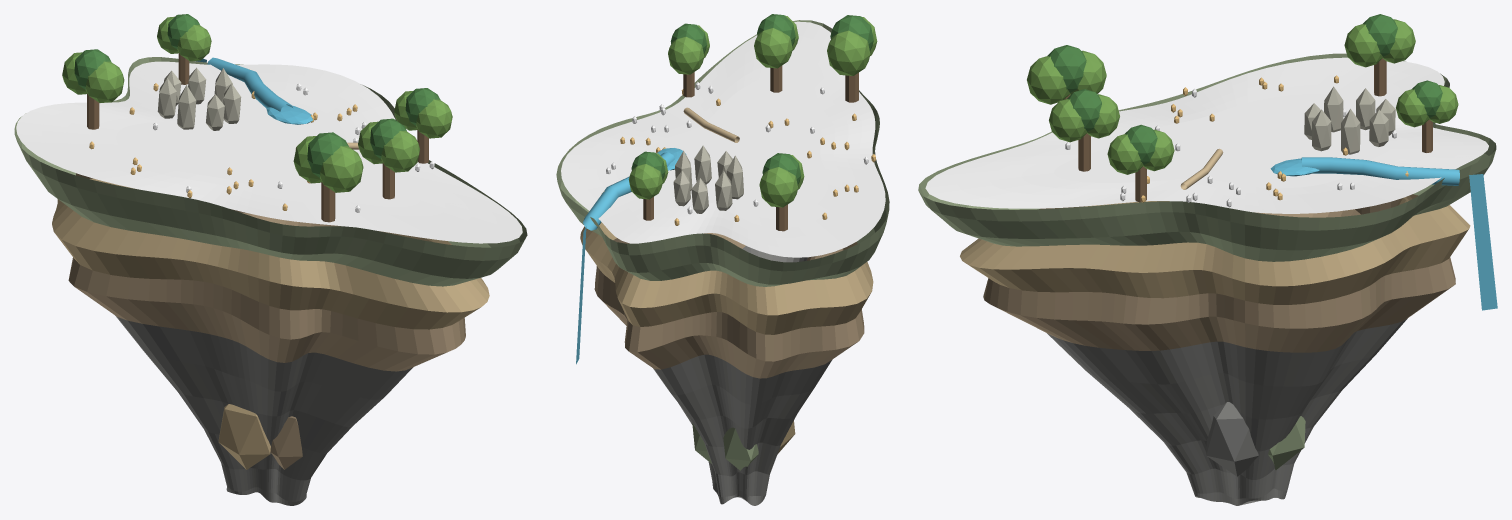
The model's file is FI-005-Amberfall-Meadow.glb.
The picture shows the model from 3 angles, left to right: view 1: azimuth 30°, elevation 25°; view 2: azimuth 150°, elevation 25°; view 3: azimuth 270°, elevation 25°; orthographic projection. The views are drawn at different scales.
Visible parts, largest first — view 1: FI-005_StratifiedFloatingCliff, FI-005_BuildableTop, FI-005_RootShoulder_01, OrchardTree_00_Canopy_00, MeadowCreek, OrchardTree_03_Canopy_00, OrchardTree_01_Canopy_00, FI-005_RootShoulder_02, OrchardTree_02_Canopy_00, OrchardTree_00_Canopy_01, OrchardTree_04_Canopy_00, OrchardTree_01_Canopy_01 (+8 smaller); view 2: FI-005_StratifiedFloatingCliff, FI-005_BuildableTop, OrchardTree_00_Canopy_02, OrchardTree_01_Canopy_02, OrchardTree_03_Canopy_02, OrchardTree_02_Canopy_02, MeadowCreek, OrchardTree_04_Canopy_02, FI-005_RootShoulder_00, OrchardTree_00_Canopy_01, OrchardTree_03_Canopy_01, OrchardTree_01_Canopy_01 (+10 smaller); view 3: FI-005_StratifiedFloatingCliff, FI-005_BuildableTop, FI-005_RootShoulder_03, MeadowCreek, WaterfallSheet, OrchardTree_00_Canopy_00, OrchardTree_00_Canopy_01, OrchardTree_01_Canopy_00, OrchardTree_03_Canopy_00, OrchardTree_02_Canopy_00, FI-005_RootShoulder_04, OrchardTree_03_Canopy_01 (+12 smaller).
Part boxes in pixels (left/top/right/bottom): FI-005_StratifiedFloatingCliff: left=14, top=57, right=527, bottom=505; FI-005_BuildableTop: left=16, top=61, right=522, bottom=243; FI-005_RootShoulder_01: left=218, top=404, right=270, bottom=469; OrchardTree_00_Canopy_00: left=319, top=146, right=363, bottom=192; MeadowCreek: left=207, top=57, right=292, bottom=111; OrchardTree_03_Canopy_00: left=85, top=61, right=124, bottom=102; OrchardTree_01_Canopy_00: left=381, top=131, right=419, bottom=172; FI-005_RootShoulder_02: left=270, top=416, right=302, bottom=469; OrchardTree_02_Canopy_00: left=416, top=99, right=452, bottom=138; OrchardTree_00_Canopy_01: left=307, top=132, right=348, bottom=177; OrchardTree_04_Canopy_00: left=177, top=25, right=211, bottom=61; OrchardTree_01_Canopy_01: left=370, top=118, right=406, bottom=158; FI-005_StratifiedFloatingCliff: left=556, top=20, right=889, bottom=505; FI-005_BuildableTop: left=561, top=21, right=885, bottom=257; OrchardTree_00_Canopy_02: left=827, top=30, right=870, bottom=75; OrchardTree_01_Canopy_02: left=754, top=28, right=792, bottom=68; OrchardTree_03_Canopy_02: left=759, top=167, right=798, bottom=207; OrchardTree_02_Canopy_02: left=668, top=36, right=704, bottom=74; MeadowCreek: left=583, top=152, right=674, bottom=230; OrchardTree_04_Canopy_02: left=628, top=164, right=662, bottom=199; FI-005_RootShoulder_00: left=723, top=427, right=758, bottom=470; OrchardTree_00_Canopy_01: left=830, top=15, right=873, bottom=50; OrchardTree_03_Canopy_01: left=762, top=153, right=801, bottom=184; OrchardTree_01_Canopy_01: left=757, top=14, right=795, bottom=45; FI-005_StratifiedFloatingCliff: left=918, top=53, right=1496, bottom=505; FI-005_BuildableTop: left=925, top=57, right=1488, bottom=213; FI-005_RootShoulder_03: left=1206, top=402, right=1258, bottom=476; MeadowCreek: left=1301, top=157, right=1459, bottom=185; WaterfallSheet: left=1469, top=174, right=1497, bottom=310; OrchardTree_00_Canopy_00: left=1027, top=56, right=1070, bottom=104; OrchardTree_00_Canopy_01: left=1047, top=45, right=1086, bottom=92; OrchardTree_01_Canopy_00: left=1049, top=99, right=1087, bottom=142; OrchardTree_03_Canopy_00: left=1344, top=24, right=1383, bottom=67; OrchardTree_02_Canopy_00: left=1107, top=134, right=1143, bottom=174; FI-005_RootShoulder_04: left=1268, top=416, right=1305, bottom=469; OrchardTree_03_Canopy_01: left=1363, top=14, right=1397, bottom=56.
Bounding box in the file's own units: 9.74 × 12.25 × 14.68.
